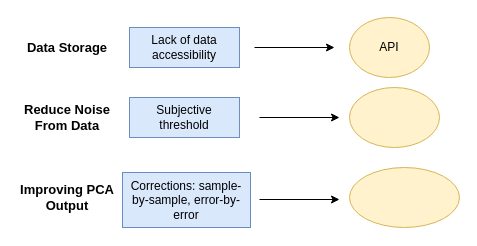
This 477x246 diagram has some shape labels left out. Each missing label, with the centre of its shape:
"Systematic corrections" goes at (x=404, y=197).
"Threshold optimization" goes at (x=394, y=117).
